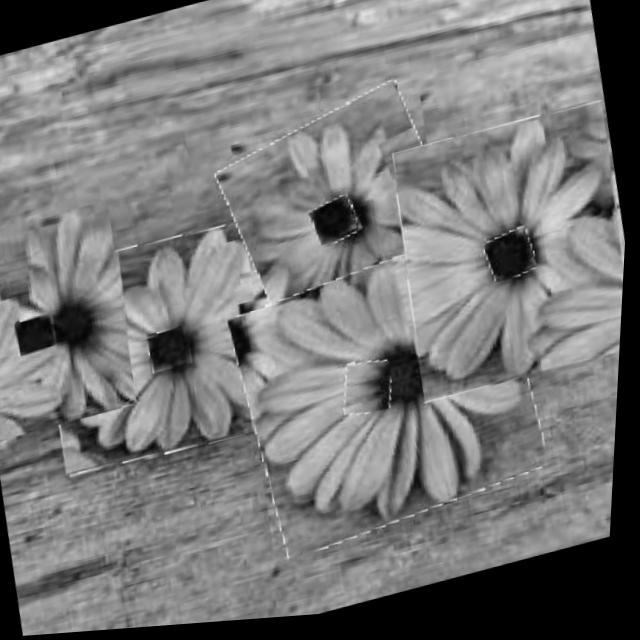Flower: (224, 230, 563, 566), (33, 211, 320, 486), (381, 105, 634, 414), (213, 84, 469, 338), (0, 199, 152, 444), (342, 360, 403, 426), (486, 233, 542, 291), (311, 199, 365, 254), (149, 327, 201, 379), (17, 313, 64, 360)
